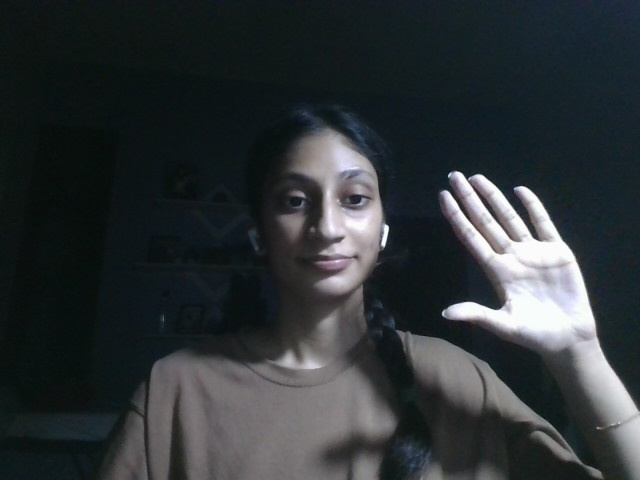hello: (432, 169, 603, 355)
